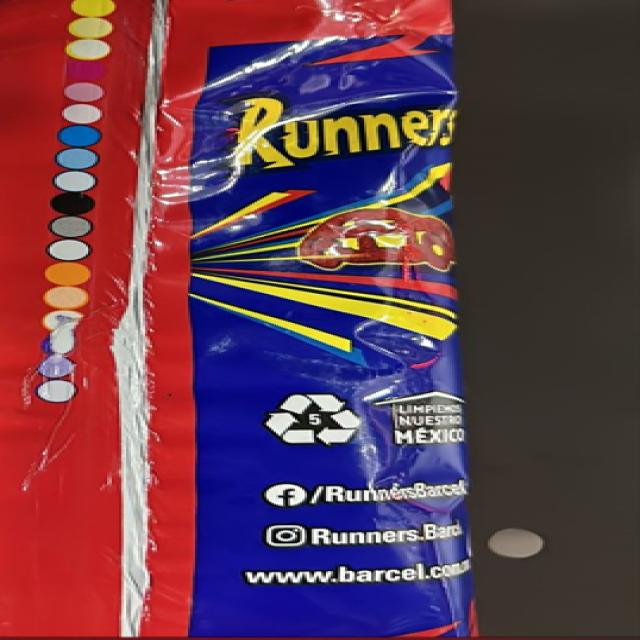productoAtras: (12, 2, 450, 640)
